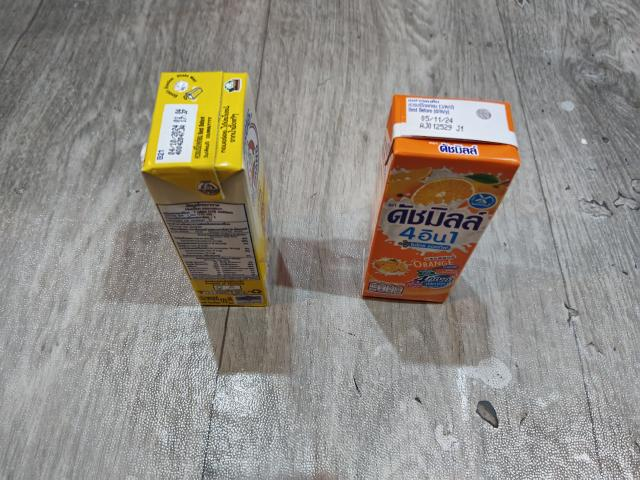drink_box: (351, 89, 532, 317), (141, 70, 277, 315)
